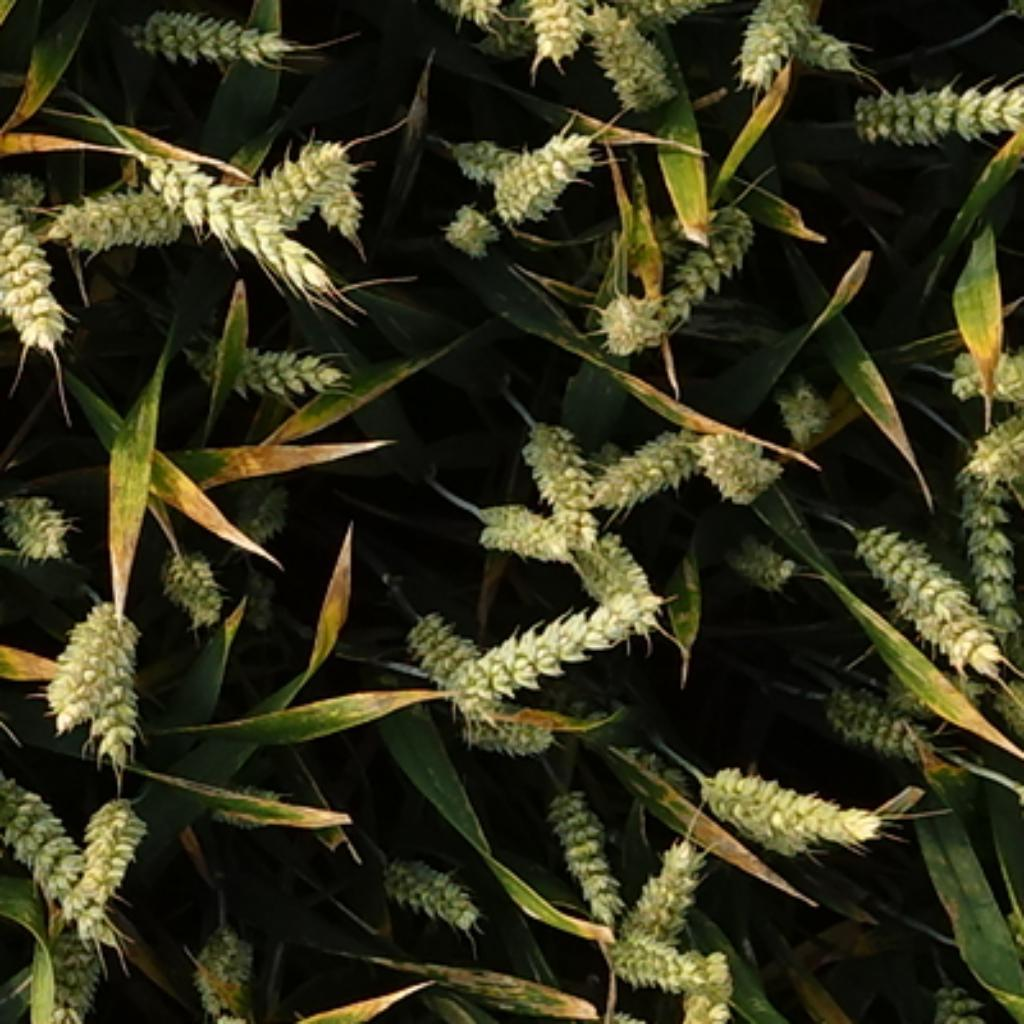0-0: (135, 128, 345, 307), (430, 581, 668, 701), (842, 504, 1003, 665), (696, 750, 883, 849), (30, 586, 145, 739), (225, 125, 371, 243), (0, 752, 97, 924), (837, 74, 1024, 158), (647, 194, 760, 332), (582, 5, 696, 118), (949, 460, 1018, 642), (64, 780, 151, 924), (189, 322, 348, 399), (537, 773, 624, 913), (478, 120, 599, 217), (0, 186, 71, 348), (48, 171, 192, 250), (125, 0, 294, 66), (806, 668, 924, 762), (396, 599, 499, 706), (368, 834, 483, 924), (593, 414, 704, 504), (38, 916, 130, 1024), (514, 409, 599, 522), (296, 130, 373, 253), (586, 209, 704, 289), (624, 834, 709, 934), (565, 522, 660, 611), (599, 924, 721, 993), (729, 0, 814, 92), (186, 926, 263, 1024), (691, 414, 780, 496), (878, 670, 993, 729), (445, 696, 563, 752), (471, 491, 573, 555), (785, 17, 878, 87), (81, 678, 145, 778), (153, 532, 227, 616), (591, 273, 673, 348), (511, 0, 593, 74), (0, 476, 71, 555), (227, 473, 296, 550), (442, 125, 529, 184), (670, 949, 737, 1024), (955, 331, 1024, 403), (616, 734, 698, 793), (232, 558, 289, 642), (960, 401, 1021, 478), (719, 527, 796, 586), (773, 371, 839, 437), (204, 780, 291, 829), (0, 179, 57, 245), (440, 192, 499, 250), (929, 980, 990, 1024), (0, 747, 12, 872)
